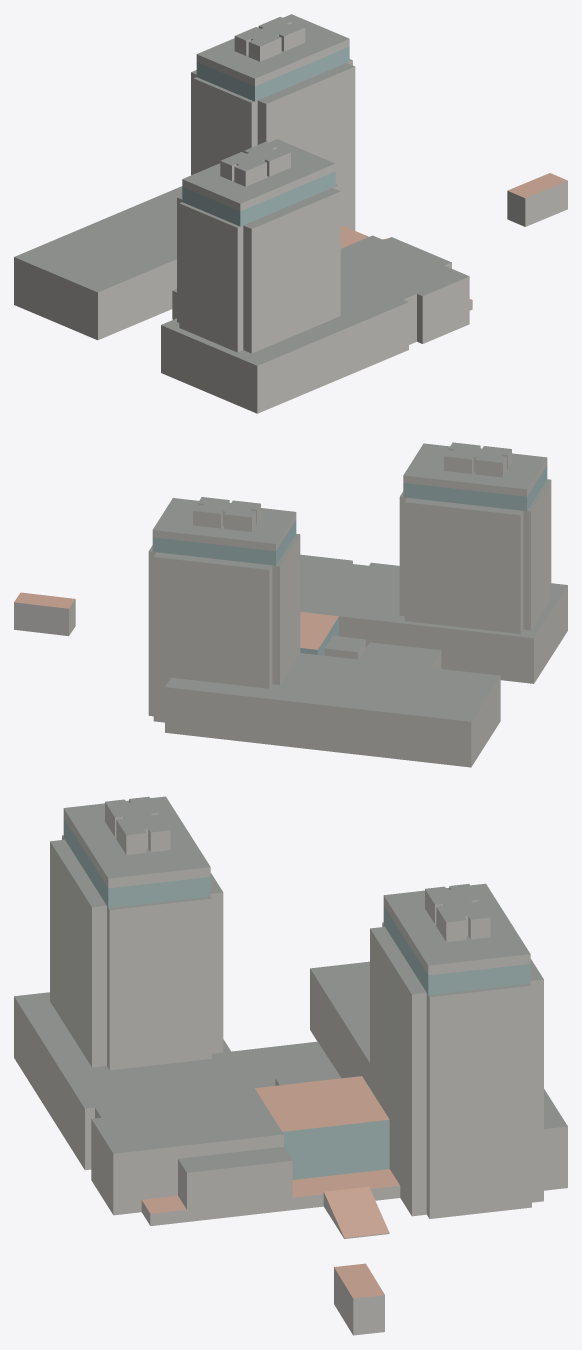
File: gridID_69.dae
3 renders of one model, top to bottom at view 1: azimuth 30°, elevation 25°; view 2: azimuth 150°, elevation 25°; view 3: azimuth 270°, elevation 25°, orthographic. The views are drawn at different scales.
Parts seen in each view (by area): view 1: model_gridID_69_w116940017, model_gridID_69_w375221623; view 2: model_gridID_69_w116940017, model_gridID_69_w375221623; view 3: model_gridID_69_w116940017, model_gridID_69_w375221623.
Boxes of the visible parts, x1,y1,x2,y2 form: model_gridID_69_w116940017: [14, 14, 472, 413]; model_gridID_69_w375221623: [507, 173, 567, 226]; model_gridID_69_w116940017: [148, 442, 567, 767]; model_gridID_69_w375221623: [14, 592, 75, 636]; model_gridID_69_w116940017: [14, 796, 567, 1238]; model_gridID_69_w375221623: [334, 1263, 384, 1335].
Size of the model in its own units: 140 by 102 by 54.97.
